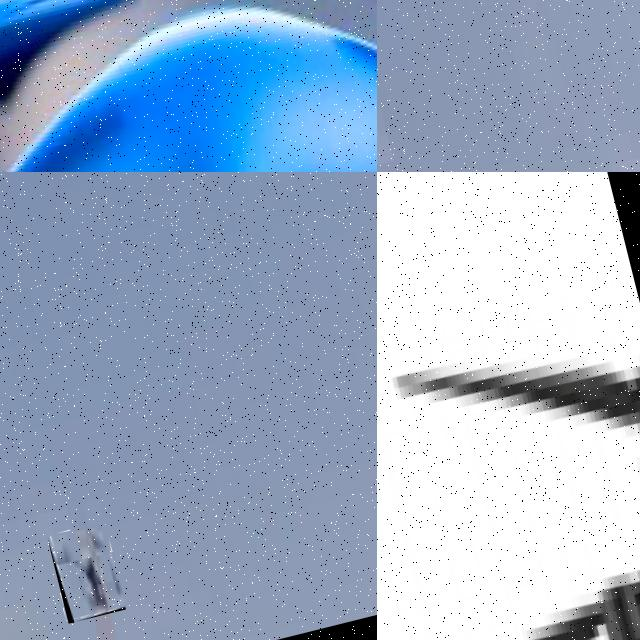0: (46, 522, 126, 623)
drone: (377, 276, 640, 640), (0, 0, 377, 172)
